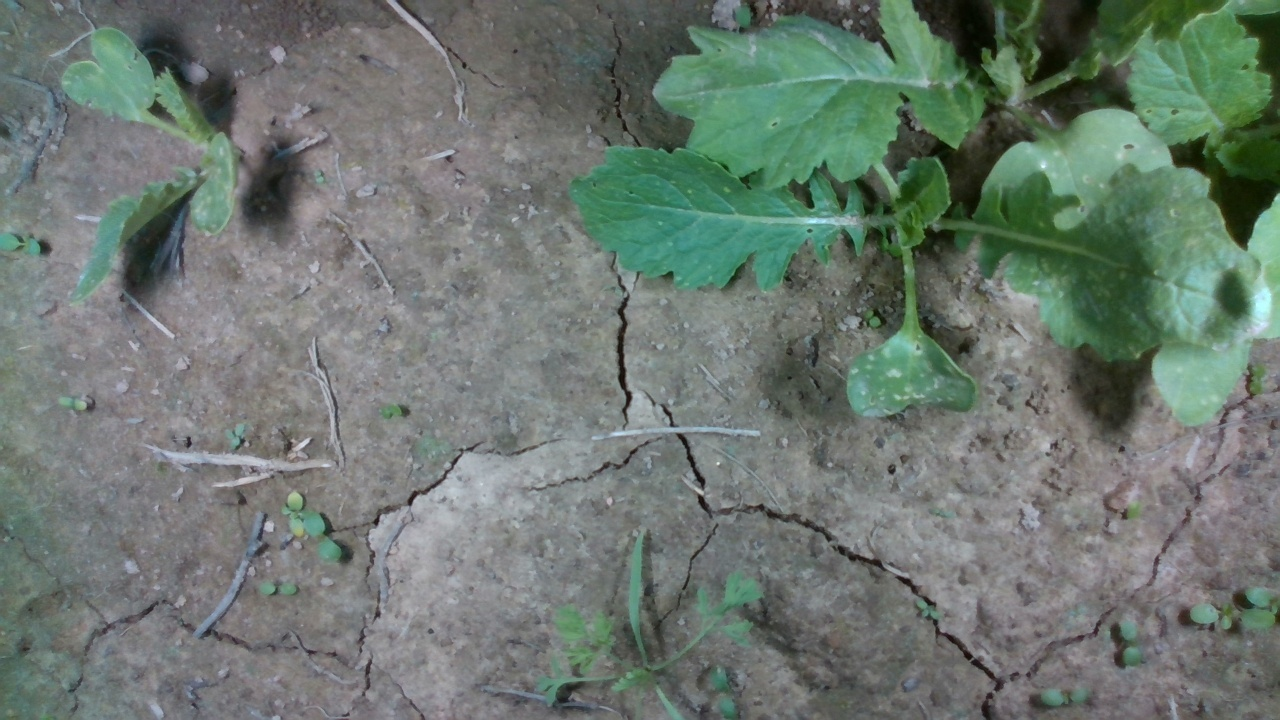weed: (1037, 682, 1087, 708), (1118, 616, 1142, 669), (257, 582, 298, 598), (53, 395, 88, 413), (223, 421, 246, 446), (379, 403, 404, 420), (863, 307, 881, 330), (314, 168, 324, 185)
